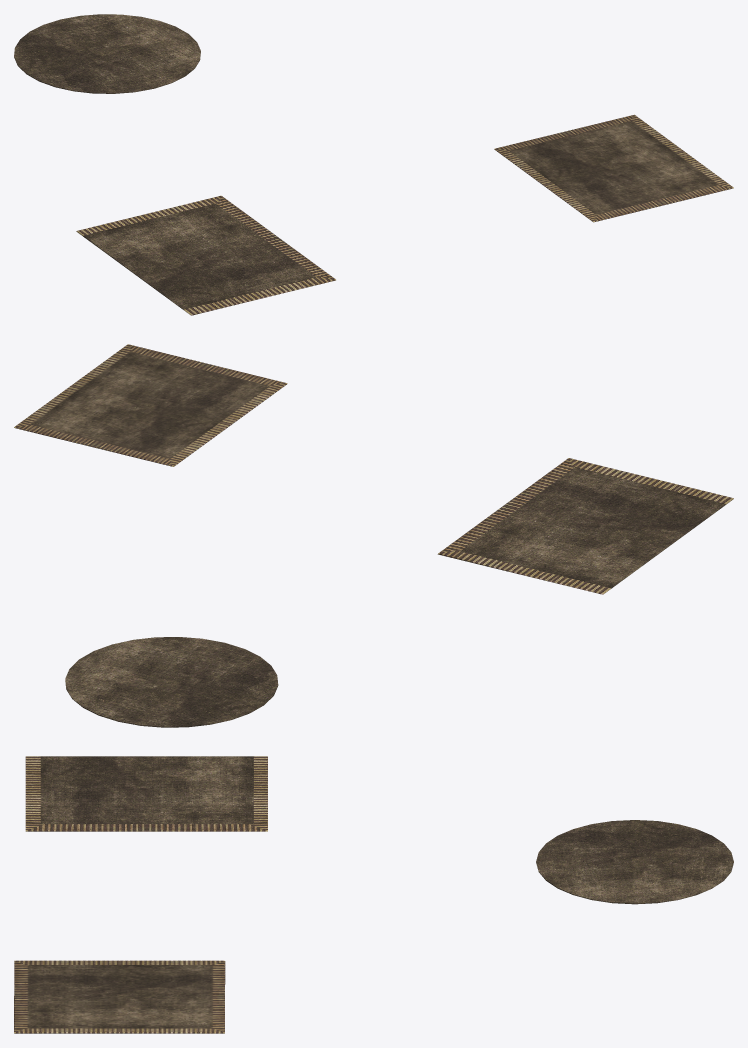
File: ditan.fbx
3 views of the same model, one above another, from view 1: azimuth 30°, elevation 25°; view 2: azimuth 150°, elevation 25°; view 3: azimuth 270°, elevation 25° (orthographic). The views are drawn at different scales.
Parts seen in each view (by area): view 1: ditan; view 2: ditan; view 3: ditan.
Part boxes in pixels (box(x1,y1,x2,y2)): ditan: box(14, 14, 733, 315); ditan: box(14, 344, 733, 727); ditan: box(14, 756, 733, 1033).
Size of the model in its own units: 995 by 1.76 by 1092.
